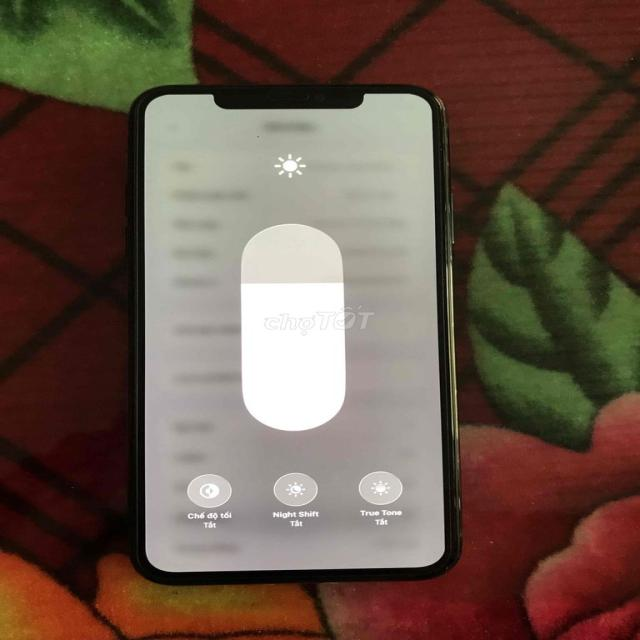gen_11: (119, 81, 477, 583)
